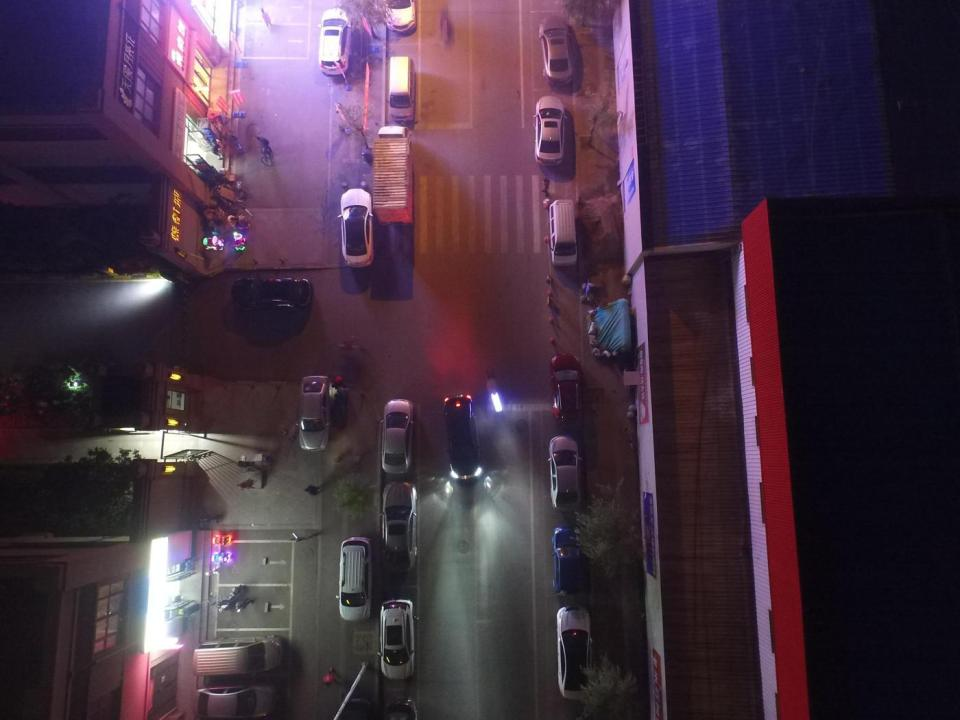car: (556, 606, 592, 700), (444, 395, 482, 484), (379, 481, 416, 572), (377, 598, 416, 679), (192, 683, 275, 717), (337, 188, 373, 266), (231, 276, 312, 308), (296, 376, 331, 450), (548, 436, 581, 511), (380, 399, 413, 473), (317, 8, 352, 76), (539, 15, 573, 85), (534, 95, 567, 165), (550, 354, 581, 422), (385, 0, 416, 33)
truck: (373, 126, 413, 226)
van: (192, 635, 283, 676), (336, 536, 372, 620), (552, 527, 581, 596), (548, 200, 578, 266), (386, 57, 416, 122)
